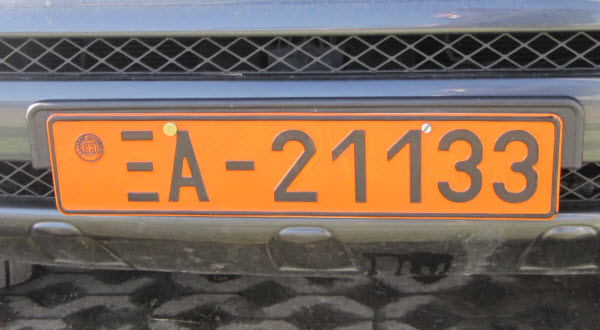license_plate: (45, 111, 564, 221)
